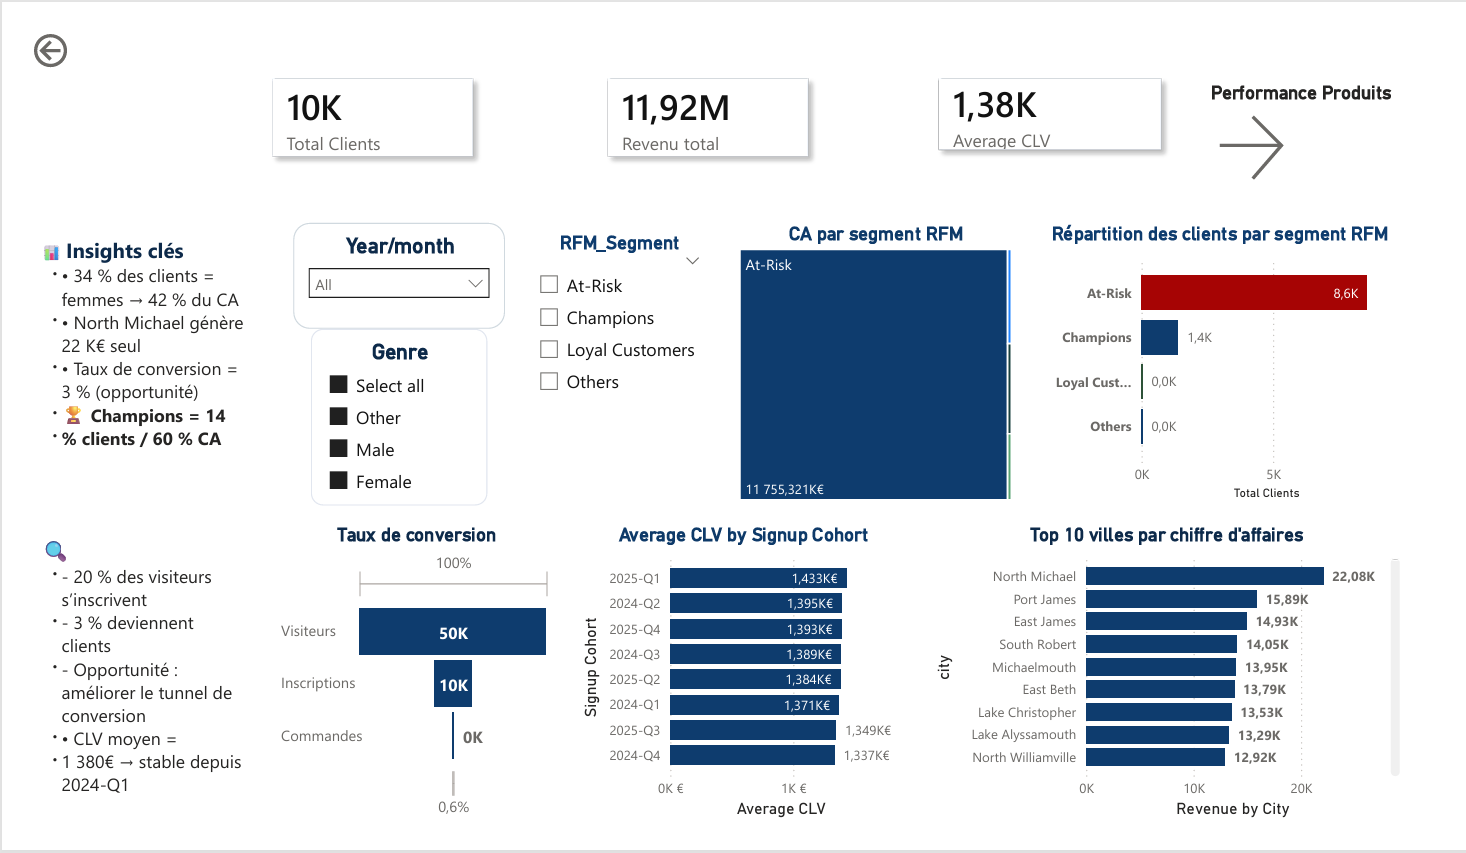

This screenshot's page, from the dashboard's own definition file:
{"tool":"powerbi","page":{"name":"Customer Insights","canvas":[1280,720],"ordinal":1},"visuals":[{"type":"cardVisual","fields":{"Data":["_Measures.Average CLV"]},"box":[796.3,16,260,120],"z":0,"group":"g2"},{"type":"textbox","box":[0,448,208,272],"z":0,"group":"g1"},{"type":"barChart","title":"Top 10 villes par chiffre d''affaires","fields":{"Category":["Users.city"],"Y":["_Measures.Revenue by City"]},"box":[816,448,432,272],"z":0},{"type":"cardVisual","fields":{"Data":["_Measures.Revenu total"]},"box":[496,16,240,128],"z":1000,"group":"g2"},{"type":"textbox","box":[0,176,208,240],"z":1000,"group":"g1"},{"type":"slicer","title":"Year/month","fields":{"Values":["DimDate.YearMonth"]},"box":[240,176,192,96],"z":1000},{"type":"cardVisual","fields":{"Data":["_Measures.Customers"]},"box":[192,16,240,128],"z":2000,"group":"g2"},{"type":"slicer","title":"Genre","fields":{"Values":["Users.gender"]},"box":[256,272,160,160],"z":2000},{"type":"actionButton","box":[0,0,100,40],"z":3000},{"type":"funnel","title":"Taux de conversion","fields":{"Category":["funnel table.Step"],"Y":["Sum(funnel table.Users)"]},"box":[224,448,256,272],"z":4000},{"type":"group","id":"g1","title":"Group 3","box":[0,176,208,544],"z":5000},{"type":"actionButton","title":"Performance Produits","box":[1072,48,176,96],"z":6000},{"type":"barChart","title":"Répartition des clients par segment RFM","fields":{"Category":["Users.RFM_Segment"],"Y":["_Measures.Total Clients"]},"box":[912,176,336,256],"z":7000},{"type":"treemap","title":"CA par segment RFM","fields":{"Values":["Sum(Users.Monetary)"],"Details":["Users.RFM_Segment"]},"box":[640,176,256,256],"z":8000},{"type":"slicer","title":"RFM_Segment","fields":{"Values":["Users.RFM_Segment"]},"box":[448,176,176,176],"z":9000},{"type":"group","id":"g2","title":"Group 1","box":[192,16,864,128],"z":10000},{"type":"barChart","fields":{"Y":["_Measures.Average CLV"],"Category":["Users.Signup Cohort"]},"box":[496,448,304,272],"z":11000}]}

Visuals, with their boxes on the page's 1280x720 design canvas (x1, y1, x2, y2). These are canvas units, not pixel positions in the 1466x853 screenshot, which may show the page scaled, cropped or inside an application window:
cardVisual - _Measures.Average CLV: pyautogui.locateOnScreen(796, 16, 1056, 136)
textbox: pyautogui.locateOnScreen(0, 448, 208, 720)
"Top 10 villes par chiffre d''affaires" barChart: pyautogui.locateOnScreen(816, 448, 1248, 720)
cardVisual - _Measures.Revenu total: pyautogui.locateOnScreen(496, 16, 736, 144)
textbox: pyautogui.locateOnScreen(0, 176, 208, 416)
"Year/month" slicer: pyautogui.locateOnScreen(240, 176, 432, 272)
cardVisual - _Measures.Customers: pyautogui.locateOnScreen(192, 16, 432, 144)
"Genre" slicer: pyautogui.locateOnScreen(256, 272, 416, 432)
actionButton: pyautogui.locateOnScreen(0, 0, 100, 40)
"Taux de conversion" funnel: pyautogui.locateOnScreen(224, 448, 480, 720)
"Group 3" group: pyautogui.locateOnScreen(0, 176, 208, 720)
"Performance Produits" actionButton: pyautogui.locateOnScreen(1072, 48, 1248, 144)
"Répartition des clients par segment RFM" barChart: pyautogui.locateOnScreen(912, 176, 1248, 432)
"CA par segment RFM" treemap: pyautogui.locateOnScreen(640, 176, 896, 432)
"RFM_Segment" slicer: pyautogui.locateOnScreen(448, 176, 624, 352)
"Group 1" group: pyautogui.locateOnScreen(192, 16, 1056, 144)
barChart - _Measures.Average CLV x Users.Signup Cohort: pyautogui.locateOnScreen(496, 448, 800, 720)
